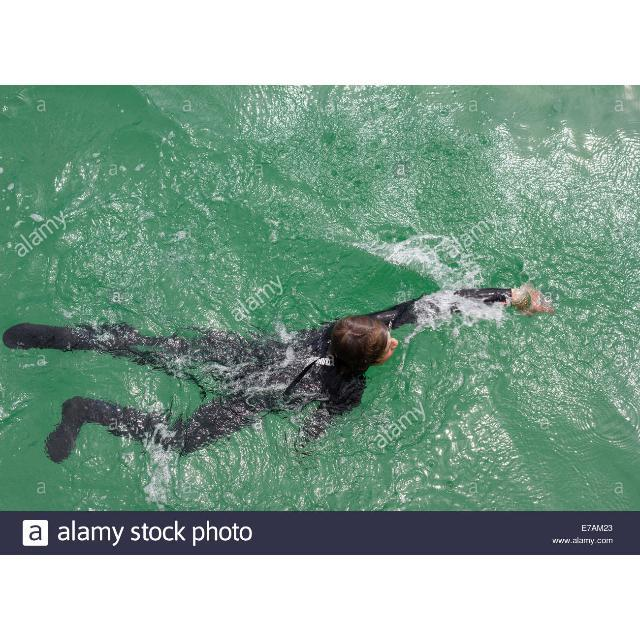human: (4, 282, 553, 467)
